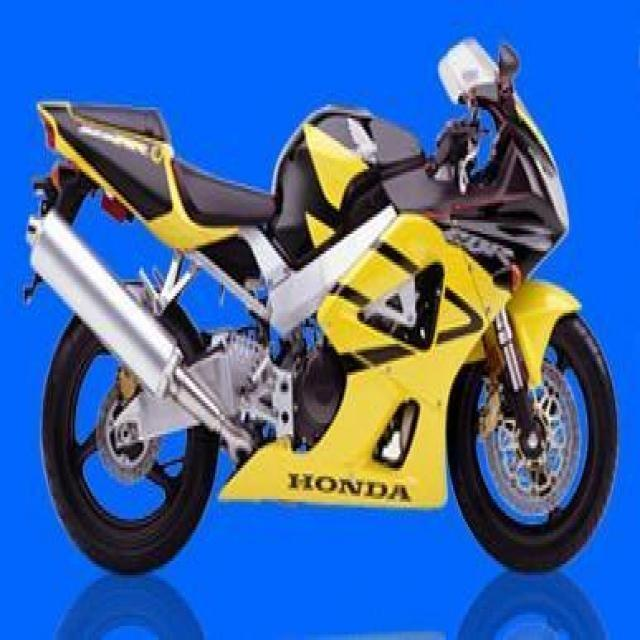Motorcycle: (26, 44, 619, 587)
